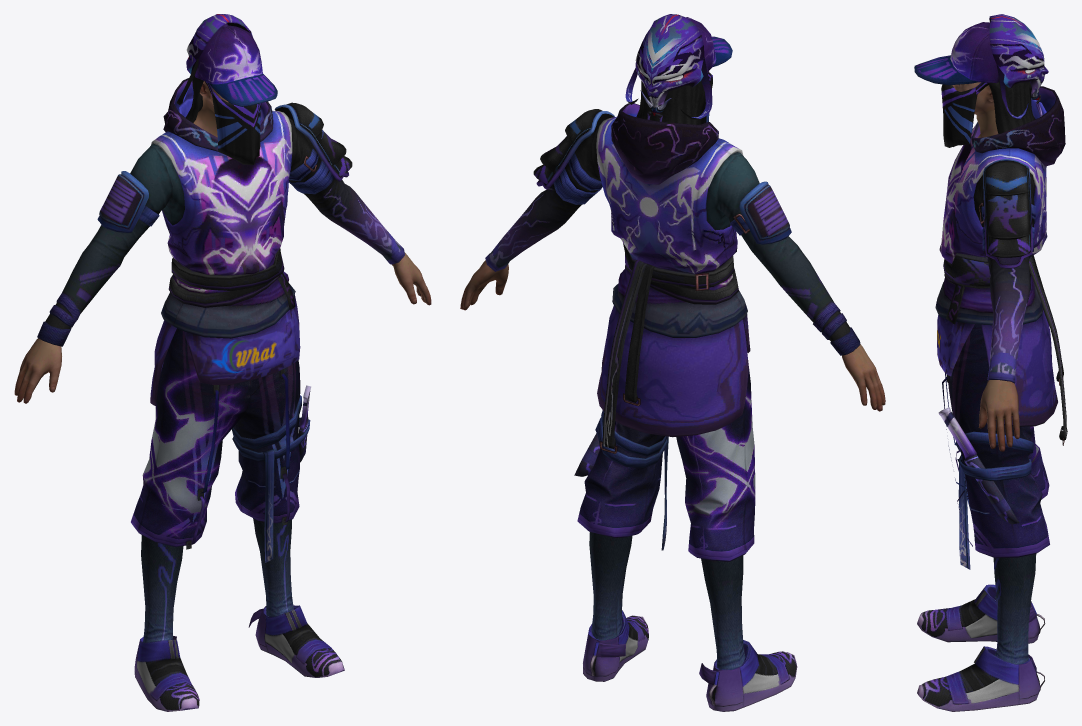
Rendered from Shinobi.obj.
3 views of the same model, side by side, from view 1: azimuth 30°, elevation 25°; view 2: azimuth 150°, elevation 25°; view 3: azimuth 270°, elevation 25° (orthographic). The views are drawn at different scales.
Parts seen in each view (by area): view 1: Male_Lobby_Top_Cos_Shinobi_Yellow, Male_Lobby_Bottom_Cos_Shinobi_Yellow_Male_Lobby_Bottom_Cos_Shino, Male_Lobby_Shoe_Cos_Shinobi_Yellow, Male_Lobby_Hair_Cos_Shinobi_Yellow_Male_Lobby_Hair_Cos_Shinobi_Y, Male_Lobby_Accessory_Cos_Shinobi_Yellow_Male_Lobby_Accessory_Cos; view 2: Male_Lobby_Top_Cos_Shinobi_Yellow, Male_Lobby_Bottom_Cos_Shinobi_Yellow_Male_Lobby_Bottom_Cos_Shino, Male_Lobby_Hair_Cos_Shinobi_Yellow_Male_Lobby_Hair_Cos_Shinobi_Y, Male_Lobby_Shoe_Cos_Shinobi_Yellow; view 3: Male_Lobby_Top_Cos_Shinobi_Yellow, Male_Lobby_Bottom_Cos_Shinobi_Yellow_Male_Lobby_Bottom_Cos_Shino, Male_Lobby_Shoe_Cos_Shinobi_Yellow, Male_Lobby_Hair_Cos_Shinobi_Yellow_Male_Lobby_Hair_Cos_Shinobi_Y, Male_Lobby_Accessory_Cos_Shinobi_Yellow_Male_Lobby_Accessory_Cos, male_lobby_head_sc_StreamerGuy.002_male_lobby_head_sc_StreamerGu.
Part boxes in pixels (left/top/right/bottom): Male_Lobby_Top_Cos_Shinobi_Yellow: left=14, top=78, right=431, bottom=405; Male_Lobby_Bottom_Cos_Shinobi_Yellow_Male_Lobby_Bottom_Cos_Shino: left=131, top=328, right=310, bottom=642; Male_Lobby_Shoe_Cos_Shinobi_Yellow: left=134, top=605, right=344, bottom=711; Male_Lobby_Hair_Cos_Shinobi_Yellow_Male_Lobby_Hair_Cos_Shinobi_Y: left=177, top=14, right=277, bottom=122; Male_Lobby_Accessory_Cos_Shinobi_Yellow_Male_Lobby_Accessory_Cos: left=204, top=81, right=261, bottom=164; Male_Lobby_Top_Cos_Shinobi_Yellow: left=460, top=103, right=885, bottom=453; Male_Lobby_Bottom_Cos_Shinobi_Yellow_Male_Lobby_Bottom_Cos_Shino: left=574, top=319, right=755, bottom=669; Male_Lobby_Hair_Cos_Shinobi_Yellow_Male_Lobby_Hair_Cos_Shinobi_Y: left=625, top=14, right=732, bottom=124; Male_Lobby_Shoe_Cos_Shinobi_Yellow: left=583, top=610, right=797, bottom=711; Male_Lobby_Top_Cos_Shinobi_Yellow: left=935, top=86, right=1067, bottom=451; Male_Lobby_Bottom_Cos_Shinobi_Yellow_Male_Lobby_Bottom_Cos_Shino: left=938, top=324, right=1049, bottom=664; Male_Lobby_Shoe_Cos_Shinobi_Yellow: left=917, top=584, right=1045, bottom=711; Male_Lobby_Hair_Cos_Shinobi_Yellow_Male_Lobby_Hair_Cos_Shinobi_Y: left=914, top=14, right=1048, bottom=133; Male_Lobby_Accessory_Cos_Shinobi_Yellow_Male_Lobby_Accessory_Cos: left=941, top=82, right=988, bottom=147; male_lobby_head_sc_StreamerGuy.002_male_lobby_head_sc_StreamerGu: left=952, top=82, right=994, bottom=114.
Bounding box in the file's own units: 0.6527 × 0.9939 × 0.2115.
7 materials, 7 textured.
